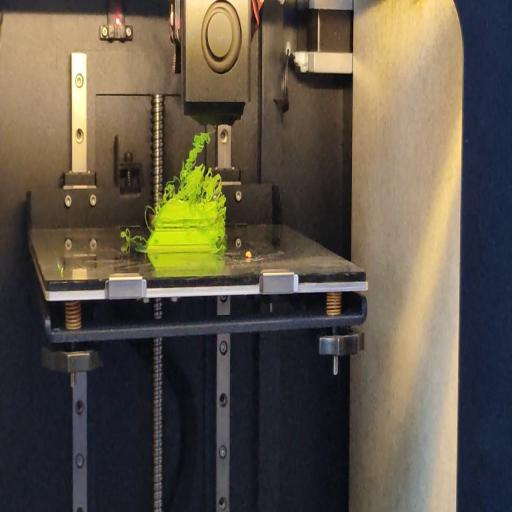spaghetti: (162, 129, 228, 203), (217, 204, 227, 251), (119, 230, 146, 246), (144, 204, 154, 231)
